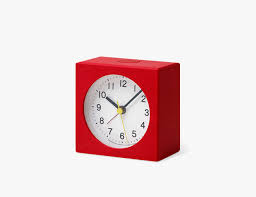alarm_clock: (72, 51, 188, 163), (72, 54, 188, 163), (72, 54, 188, 160), (72, 54, 182, 160)
